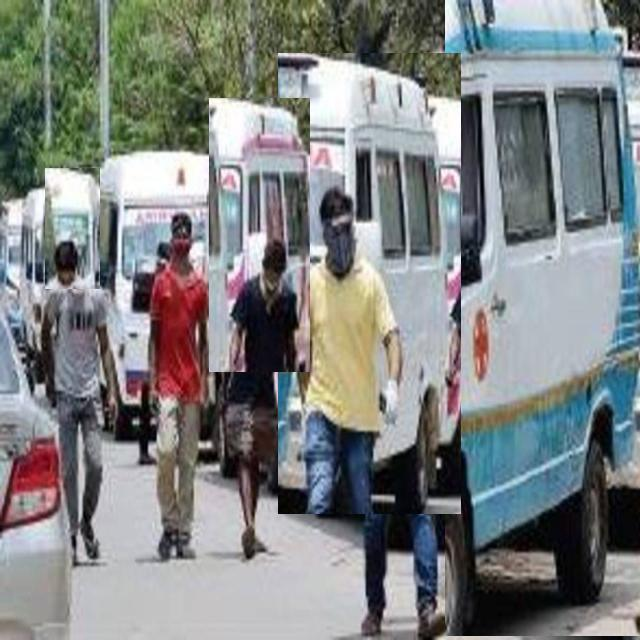emergency: (445, 0, 640, 636), (278, 54, 461, 514), (91, 151, 209, 436), (209, 98, 310, 372), (45, 169, 100, 289), (20, 187, 48, 362)
